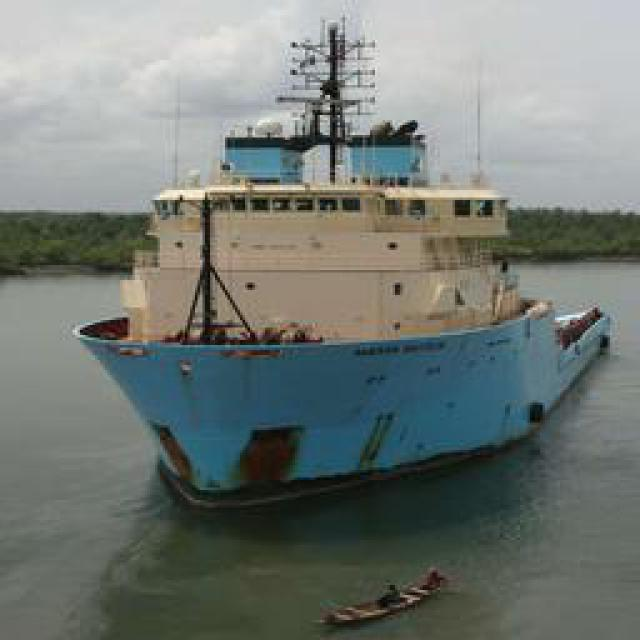Ship: (75, 90, 610, 533)
